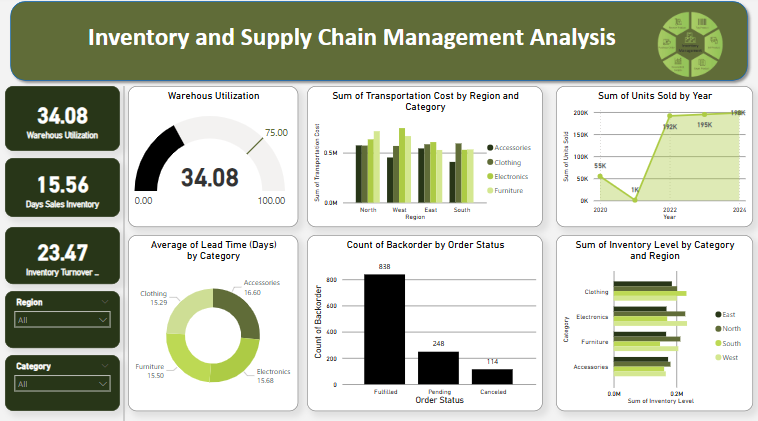

Layout of this report page (visuals, bound fields, positions):
{"tool":"powerbi","page":{"name":"Page 1","canvas":[1280,720],"ordinal":0},"visuals":[{"type":"shape","box":[10.1,0,1256.5,151.2],"z":0},{"type":"textbox","box":[131,37,923.9,77.3],"z":1000},{"type":"image","box":[1054.9,0,211.7,162.9],"z":2000},{"type":"shape","box":[203.3,151.2,13.4,569.4],"z":3000},{"type":"card","fields":{"Values":["Inventory and Supply Chain_Dataset.Warehous Utilization"]},"box":[10.1,151.2,193.2,109.2],"z":4000},{"type":"card","fields":{"Values":["Inventory and Supply Chain_Dataset.Days Sales Inventory"]},"box":[10.1,272.1,193.2,99.1],"z":5000},{"type":"card","fields":{"Values":["Inventory and Supply Chain_Dataset.Inventory Turnover Ratio"]},"box":[10.1,388,193.2,95.7],"z":6000},{"type":"slicer","fields":{"Values":["Inventory and Supply Chain_Dataset.Region"]},"box":[10.1,495.5,193.2,95.7],"z":7000},{"type":"slicer","fields":{"Values":["Inventory and Supply Chain_Dataset.Category"]},"box":[10.1,603,193.2,94.1],"z":8000},{"type":"gauge","fields":{"Y":["Inventory and Supply Chain_Dataset.Warehous Utilization"]},"box":[216.7,151.2,285.6,236.9],"z":9000},{"type":"clusteredColumnChart","fields":{"Y":["Sum(Inventory and Supply Chain_Dataset.Transportation Cost)"],"Category":["Inventory and Supply Chain_Dataset.Region"],"Series":["Inventory and Supply Chain_Dataset.Category"]},"box":[517.4,151.2,396.4,236.9],"z":10000},{"type":"lineChart","fields":{"Y":["Sum(Inventory and Supply Chain_Dataset.Units Sold)"],"Category":["Inventory and Supply Chain_Dataset.Date.Variation.Date Hierarchy.Year"]},"box":[935.6,151.2,330.9,236.9],"z":11000},{"type":"donutChart","fields":{"Y":["Avg(Inventory and Supply Chain_Dataset.Lead Time (Days))"],"Category":["Inventory and Supply Chain_Dataset.Category"]},"box":[216.7,401.5,285.6,295.6],"z":11001},{"type":"columnChart","fields":{"Y":["CountNonNull(Inventory and Supply Chain_Dataset.Backorder)"],"Category":["Inventory and Supply Chain_Dataset.Order Status"]},"box":[517.4,401.5,396.4,295.6],"z":11002},{"type":"clusteredBarChart","fields":{"Y":["Sum(Inventory and Supply Chain_Dataset.Inventory Level)"],"Category":["Inventory and Supply Chain_Dataset.Category"],"Series":["Inventory and Supply Chain_Dataset.Region"]},"box":[935.6,401.5,330.9,295.6],"z":11003}]}

Visuals, with their boxes in screenshot pixels (x1, y1, x2, y2), scaled from the page's 1280x720 canvas onto the 758x421 screenshot:
shape: bbox(6, 0, 750, 88)
textbox: bbox(78, 22, 625, 67)
image: bbox(625, 0, 750, 95)
shape: bbox(120, 88, 128, 420)
card - Inventory and Supply Chain_Dataset.Warehous Utilization: bbox(6, 88, 120, 152)
card - Inventory and Supply Chain_Dataset.Days Sales Inventory: bbox(6, 159, 120, 217)
card - Inventory and Supply Chain_Dataset.Inventory Turnover Ratio: bbox(6, 227, 120, 283)
slicer - Inventory and Supply Chain_Dataset.Region: bbox(6, 290, 120, 346)
slicer - Inventory and Supply Chain_Dataset.Category: bbox(6, 353, 120, 408)
gauge - Inventory and Supply Chain_Dataset.Warehous Utilization: bbox(128, 88, 297, 227)
clusteredColumnChart - Sum(Inventory and Supply Chain_Dataset.Transportation Cost) x Inventory and Supply Chain_Dataset.Region: bbox(306, 88, 541, 227)
lineChart - Sum(Inventory and Supply Chain_Dataset.Units Sold) x Inventory and Supply Chain_Dataset.Date.Variation.Date Hierarchy.Year: bbox(554, 88, 750, 227)
donutChart - Avg(Inventory and Supply Chain_Dataset.Lead Time (Days)) x Inventory and Supply Chain_Dataset.Category: bbox(128, 235, 297, 408)
columnChart - CountNonNull(Inventory and Supply Chain_Dataset.Backorder) x Inventory and Supply Chain_Dataset.Order Status: bbox(306, 235, 541, 408)
clusteredBarChart - Sum(Inventory and Supply Chain_Dataset.Inventory Level) x Inventory and Supply Chain_Dataset.Category: bbox(554, 235, 750, 408)
